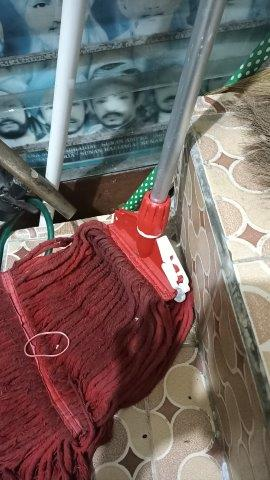karet: (24, 331, 70, 357)
